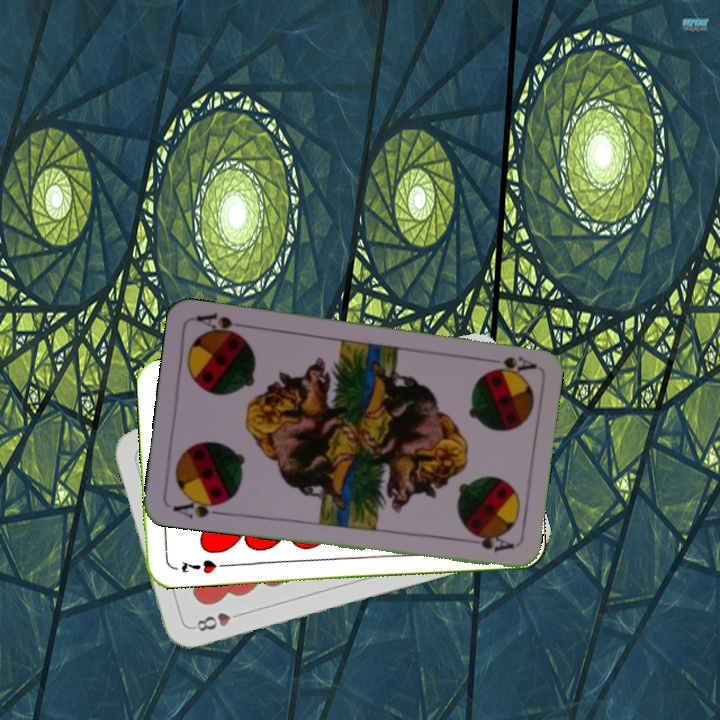H7: (177, 555, 220, 577)
H8: (188, 608, 246, 634)
SA: (169, 493, 228, 521), (479, 352, 538, 375)
